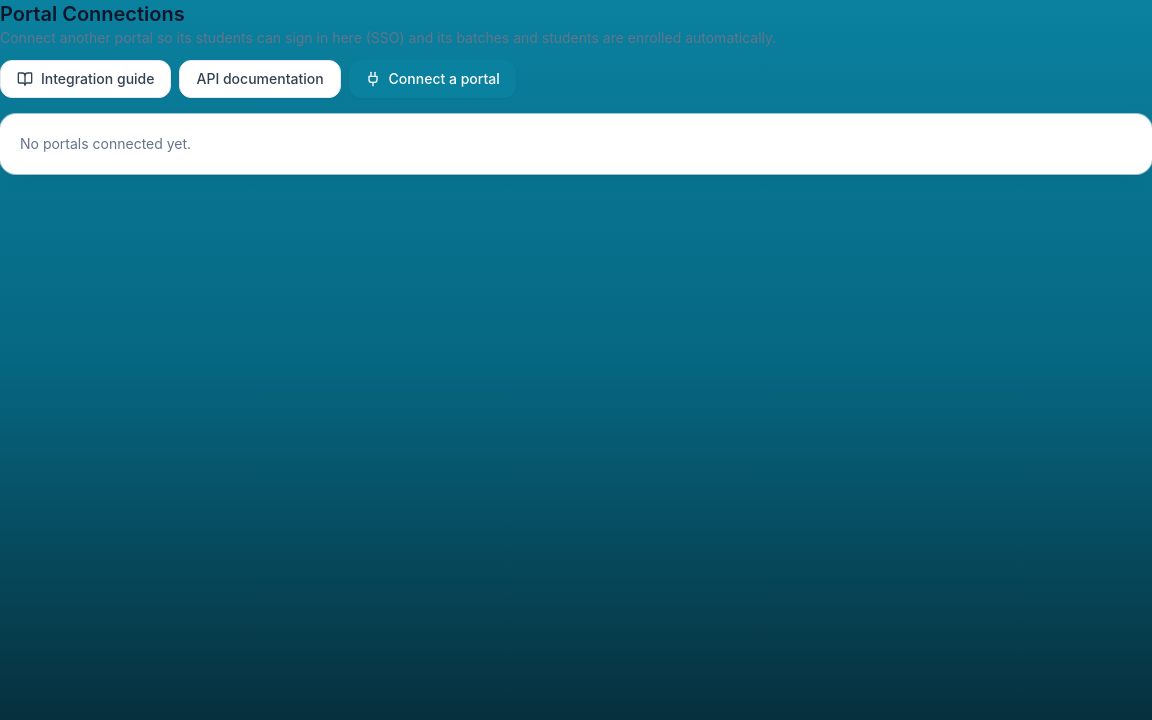
Test: portal connections (admin) › shows the shared secret once after connecting a portal
Click the button "Connect a portal" at (432, 79), box [349, 60, 516, 98]
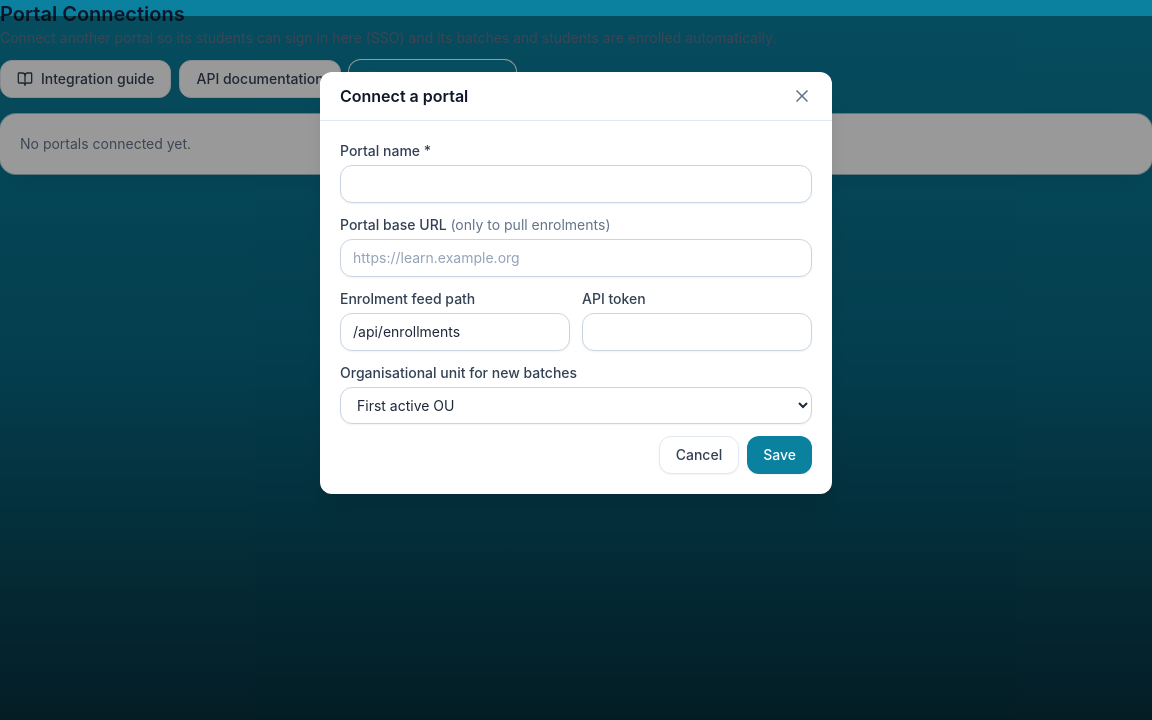
Type "ICTAK Learn" into the field labelled "Portal name *" at (576, 184), box [340, 165, 812, 203]
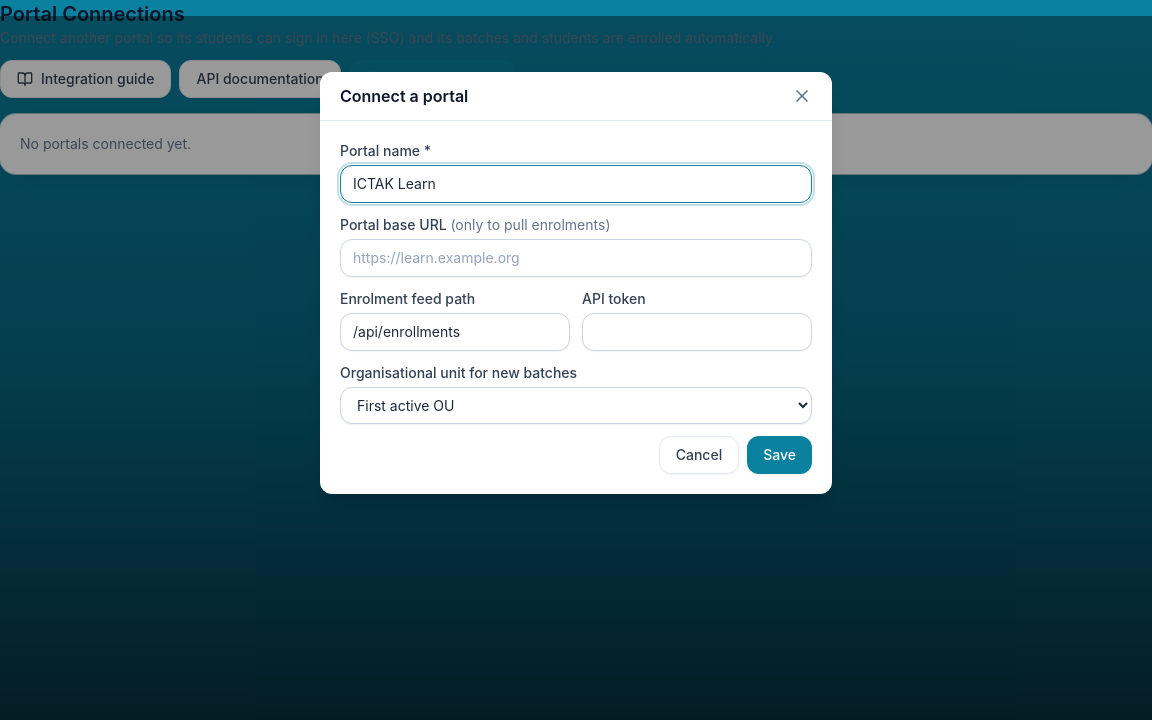
Click the button "Save" at (780, 455), box [747, 436, 812, 474]
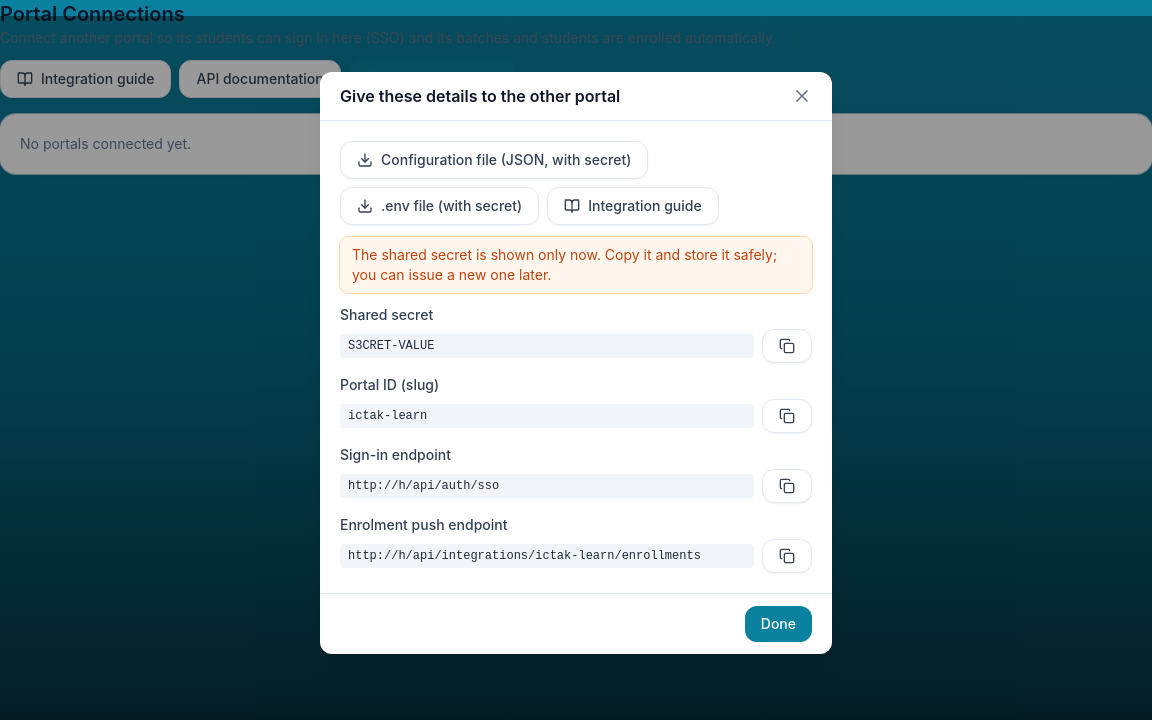
Now the text "S3CRET-VALUE" is shown, box [340, 334, 754, 358]
Now the text "shown only now" is shown, box [352, 246, 777, 283]
